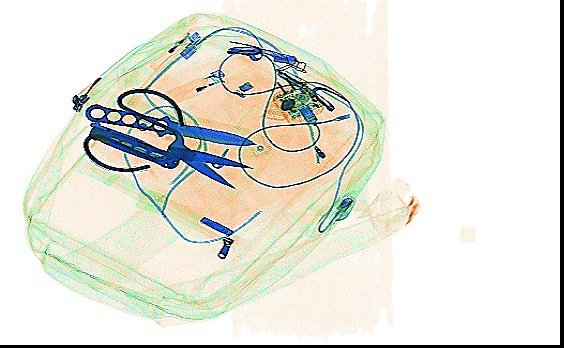knife: (81, 101, 257, 147), (84, 115, 181, 170)
lighter: (149, 26, 203, 74), (162, 67, 227, 104)
scissors: (80, 85, 254, 191)
